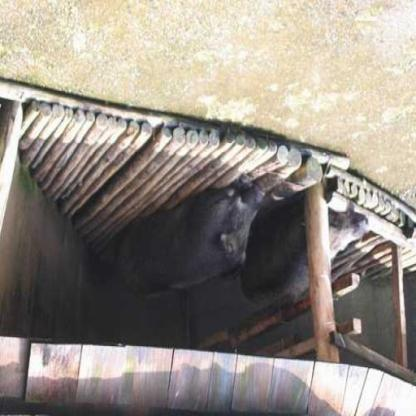boar: (100, 144, 277, 310), (253, 163, 395, 310)
